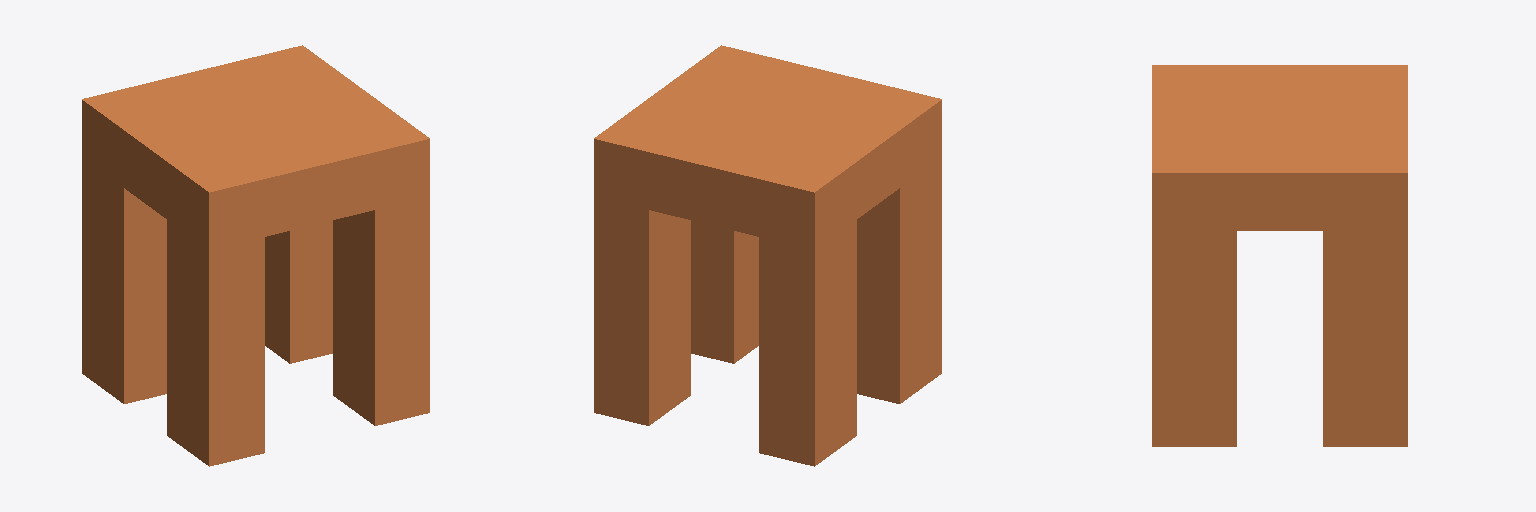
The model's file is Stool.obj.
3 renders of one model, left to right at view 1: azimuth 30°, elevation 25°; view 2: azimuth 150°, elevation 25°; view 3: azimuth 270°, elevation 25°, orthographic.
Visible parts, largest first — view 1: Box001; view 2: Box001; view 3: Box001.
Part boxes in pixels (left/top/right/bottom): Box001: left=82, top=45, right=429, bottom=466; Box001: left=594, top=45, right=941, bottom=466; Box001: left=1152, top=65, right=1407, bottom=446.
Bounding box in the file's own units: 40 × 47.38 × 40.